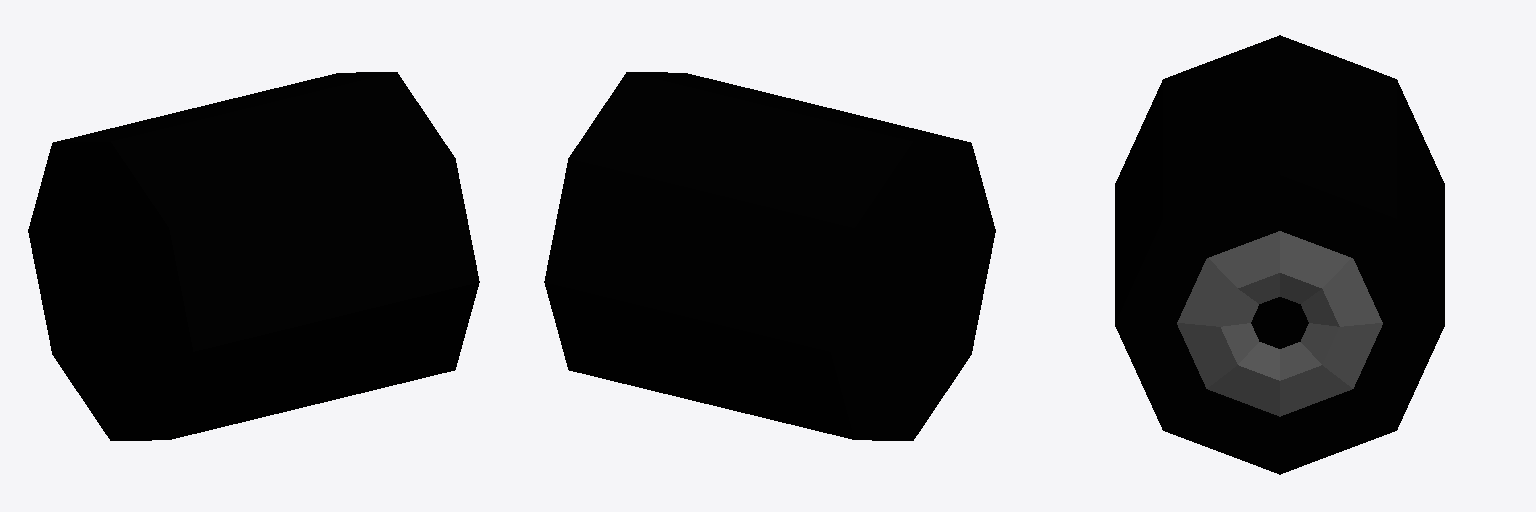
Rendered from truckwheel.obj.
The picture shows the model from 3 angles: view 1: azimuth 30°, elevation 25°; view 2: azimuth 150°, elevation 25°; view 3: azimuth 270°, elevation 25°; orthographic projection.
Visible parts, largest first — view 1: Wheel; view 2: Wheel; view 3: Wheel.
Boxes of the visible parts, x1,y1,x2,y2 form: Wheel: [28, 72, 479, 440]; Wheel: [544, 72, 995, 440]; Wheel: [1115, 35, 1444, 474].
Size of the model in its own units: 0.5073 by 0.5 by 0.5.